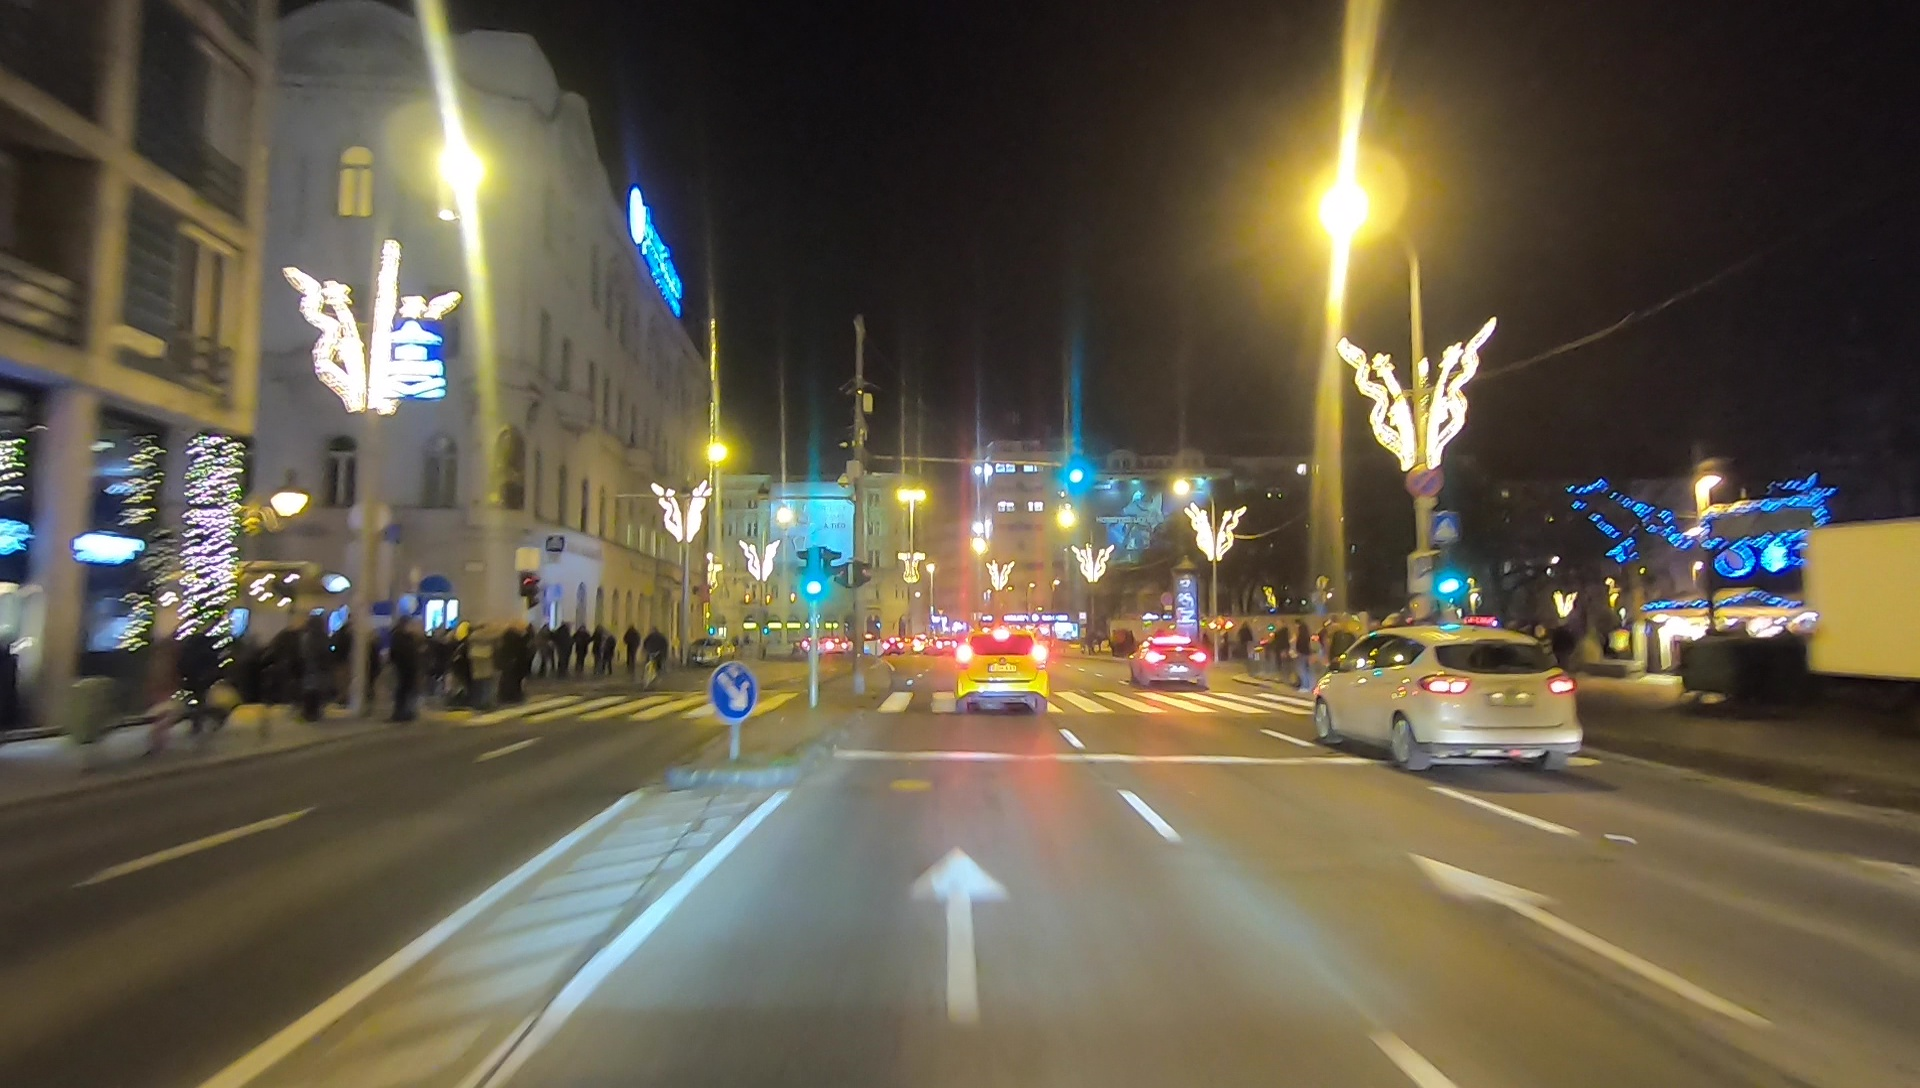person: (173, 628, 215, 747), (295, 615, 328, 723), (388, 626, 419, 724), (493, 626, 521, 700), (641, 628, 664, 676), (534, 624, 551, 678), (591, 624, 606, 676), (575, 626, 591, 676), (621, 624, 638, 669), (556, 624, 569, 674)
